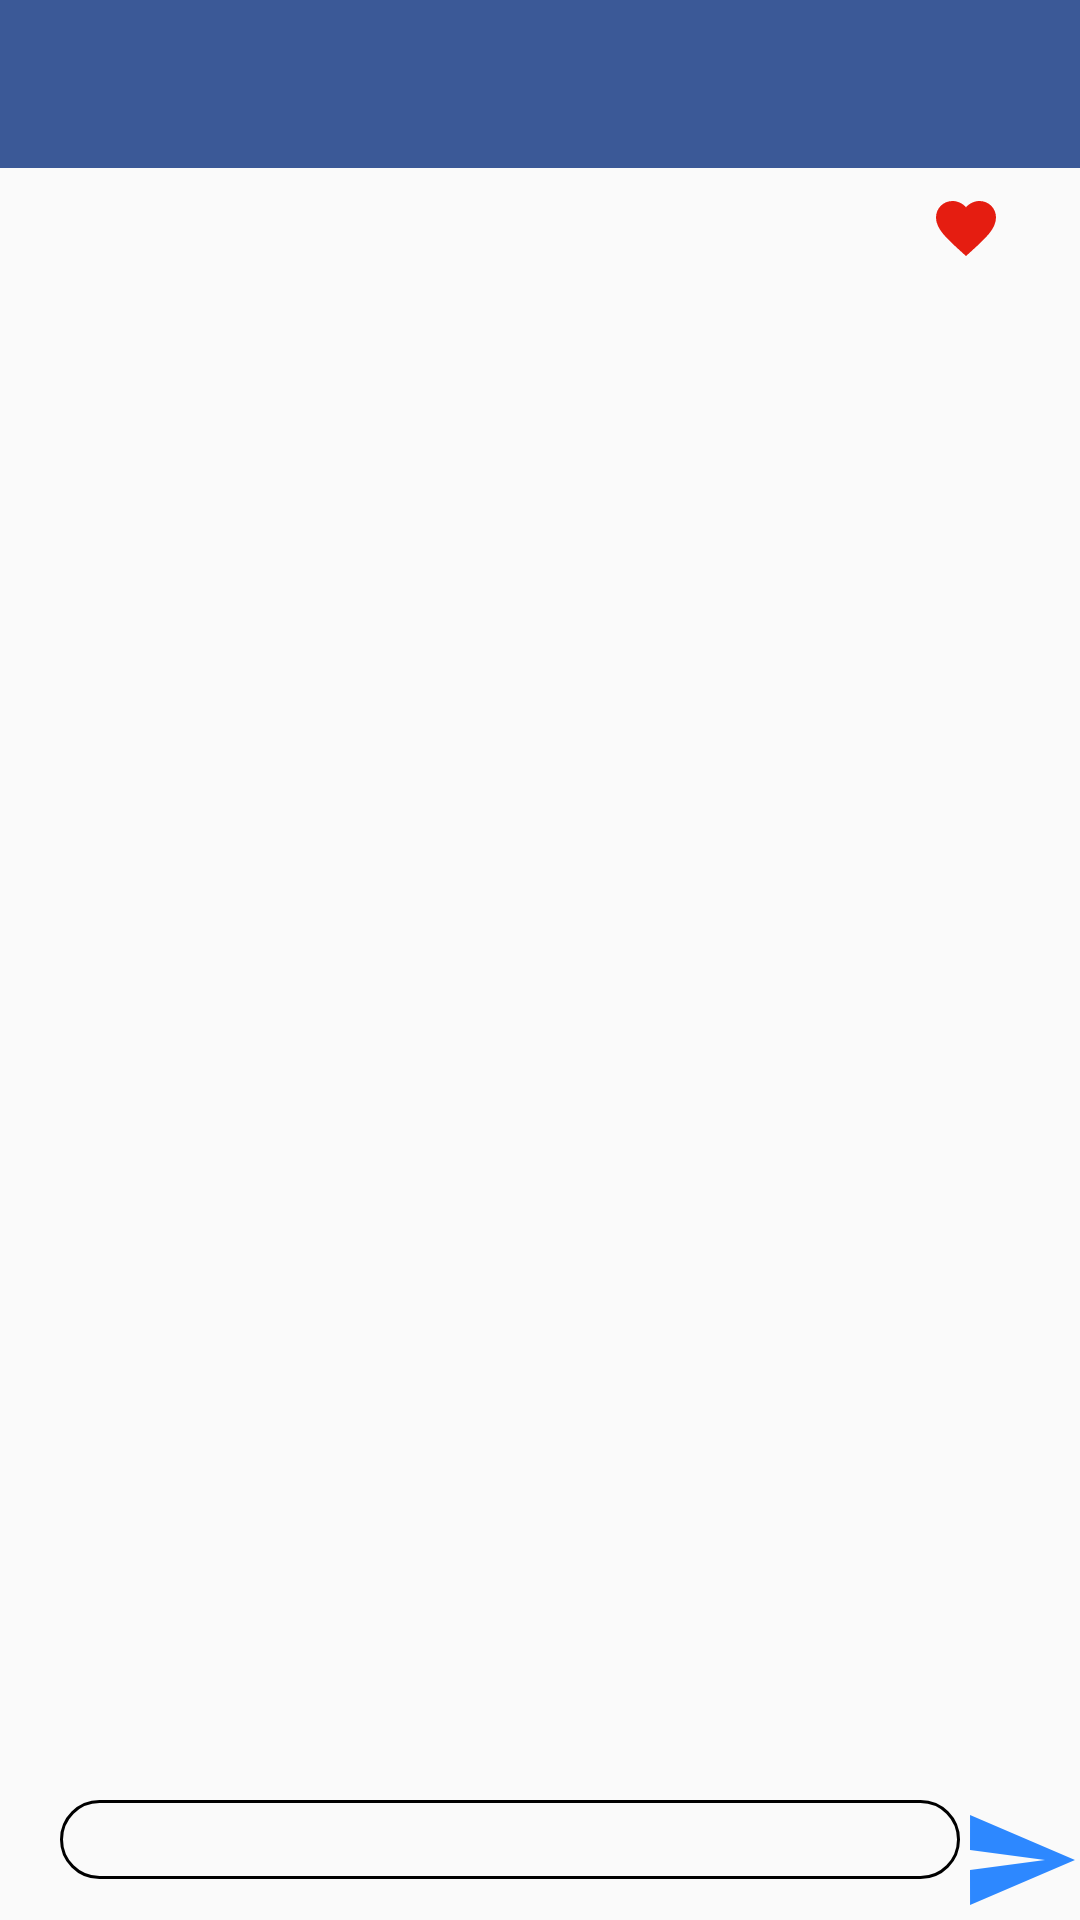

Where to tap for icons on this 1080x1920 app screen, as [x,y]:
send: [1022,1860]
un favorite: [966,228]
